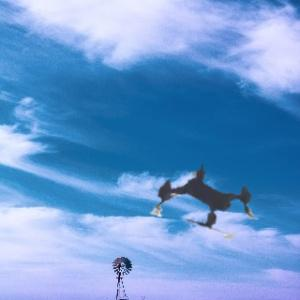drone: (128, 118, 292, 282)
